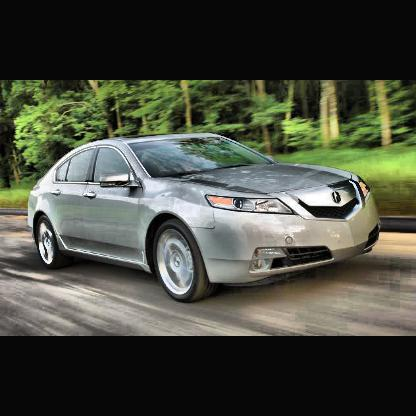Acura TL Sedan 2012: (25, 130, 383, 304)
